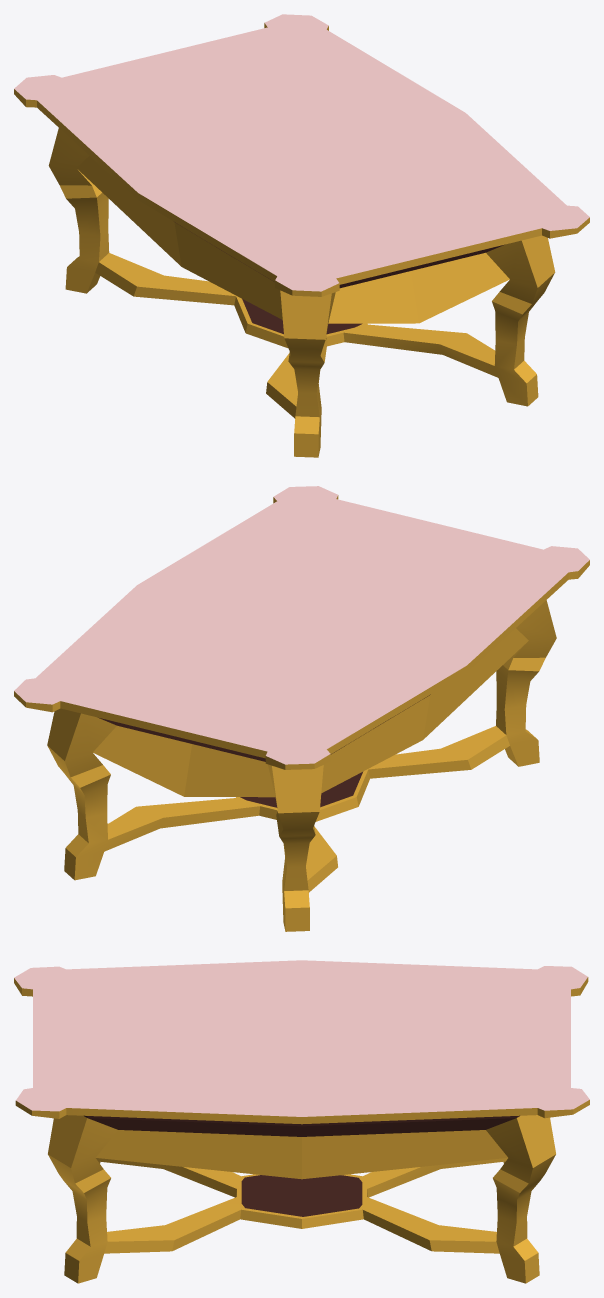
File: Mesa rustica2.fbx
3 renders of one model, top to bottom at view 1: azimuth 30°, elevation 25°; view 2: azimuth 150°, elevation 25°; view 3: azimuth 270°, elevation 25°, orthographic. The views are drawn at different scales.
Parts seen in each view (by area): view 1: Cube.001; view 2: Cube.001; view 3: Cube.001.
Part boxes in pixels (x1,y1,x2,y2): Cube.001: [14, 14, 589, 457]; Cube.001: [14, 486, 589, 931]; Cube.001: [14, 960, 589, 1283].
Bounding box in the file's own units: 147 × 81.36 × 228.
